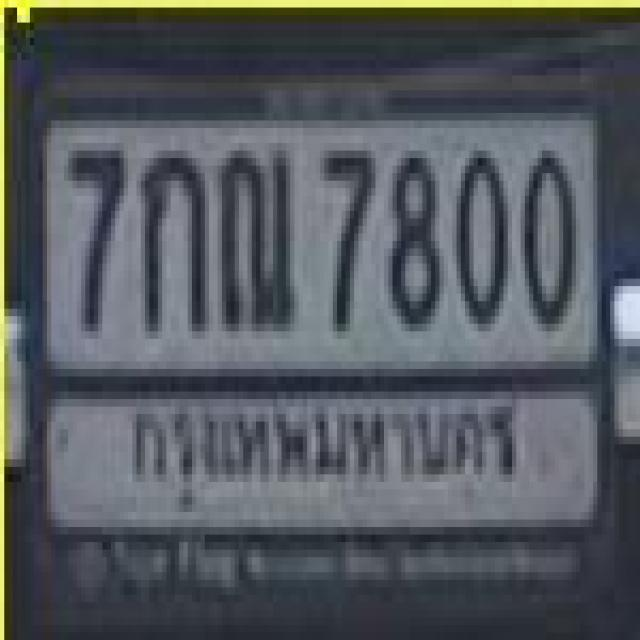license_plate: (23, 61, 621, 610)
